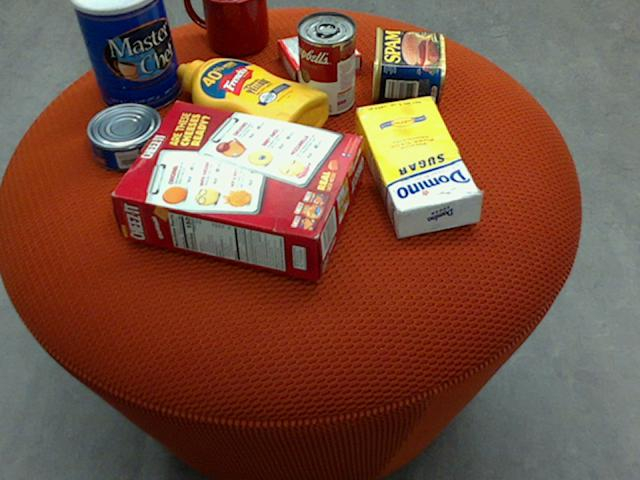cracker_box: (110, 99, 362, 279)
gelatin_box: (277, 25, 362, 86)
large_marker: (223, 0, 256, 48)
master_chef_can: (69, 0, 182, 113)
mug: (185, 0, 268, 56)
mustard_bottle: (177, 58, 327, 154)
potted_meat_can: (371, 27, 444, 102)
sugar_box: (353, 96, 483, 236)
tomato_soup_can: (296, 10, 355, 115)
tuna_fish_can: (85, 103, 166, 171)
